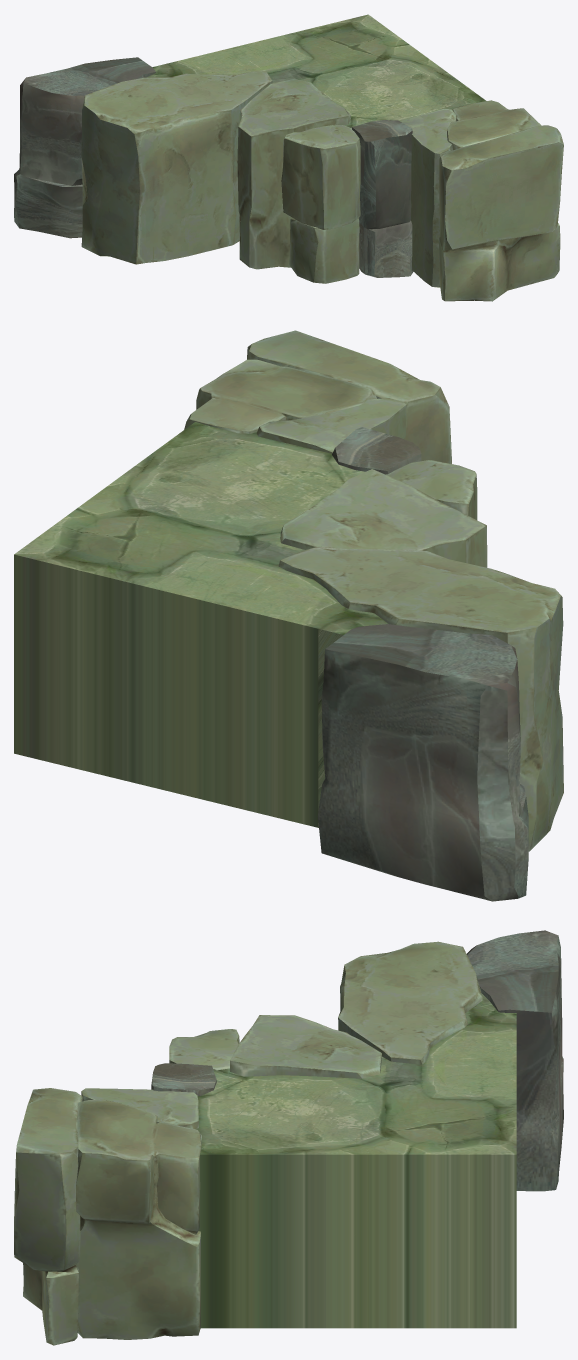
File: Ruins_Wall_DMG_Center_TopLeft_A.fbx
3 views of the same model, one above another, from view 1: azimuth 30°, elevation 25°; view 2: azimuth 150°, elevation 25°; view 3: azimuth 270°, elevation 25° (orthographic). The views are drawn at different scales.
Visible parts, largest first — view 1: Ruins_Wall_DMG_Center_TopLeft_A; view 2: Ruins_Wall_DMG_Center_TopLeft_A; view 3: Ruins_Wall_DMG_Center_TopLeft_A.
Boxes of the visible parts, left/top/right/bottom form: Ruins_Wall_DMG_Center_TopLeft_A: left=14, top=14, right=563, bottom=301; Ruins_Wall_DMG_Center_TopLeft_A: left=14, top=330, right=563, bottom=901; Ruins_Wall_DMG_Center_TopLeft_A: left=14, top=930, right=563, bottom=1345.
Bounding box in the file's own units: 728 × 282 × 717.
